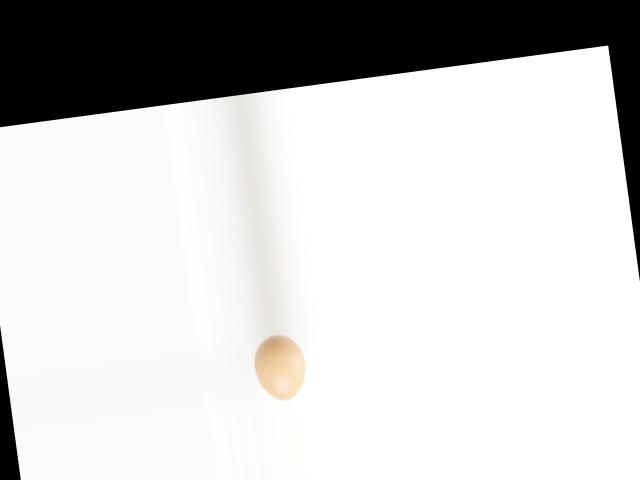egg: (250, 331, 308, 403)
